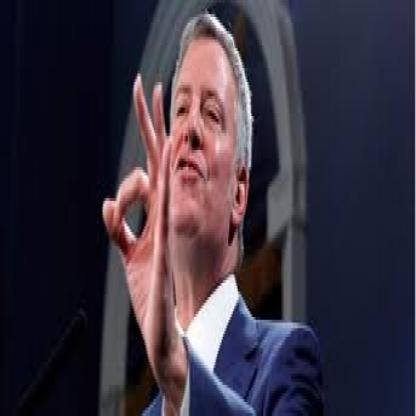ok: (100, 68, 178, 378)
